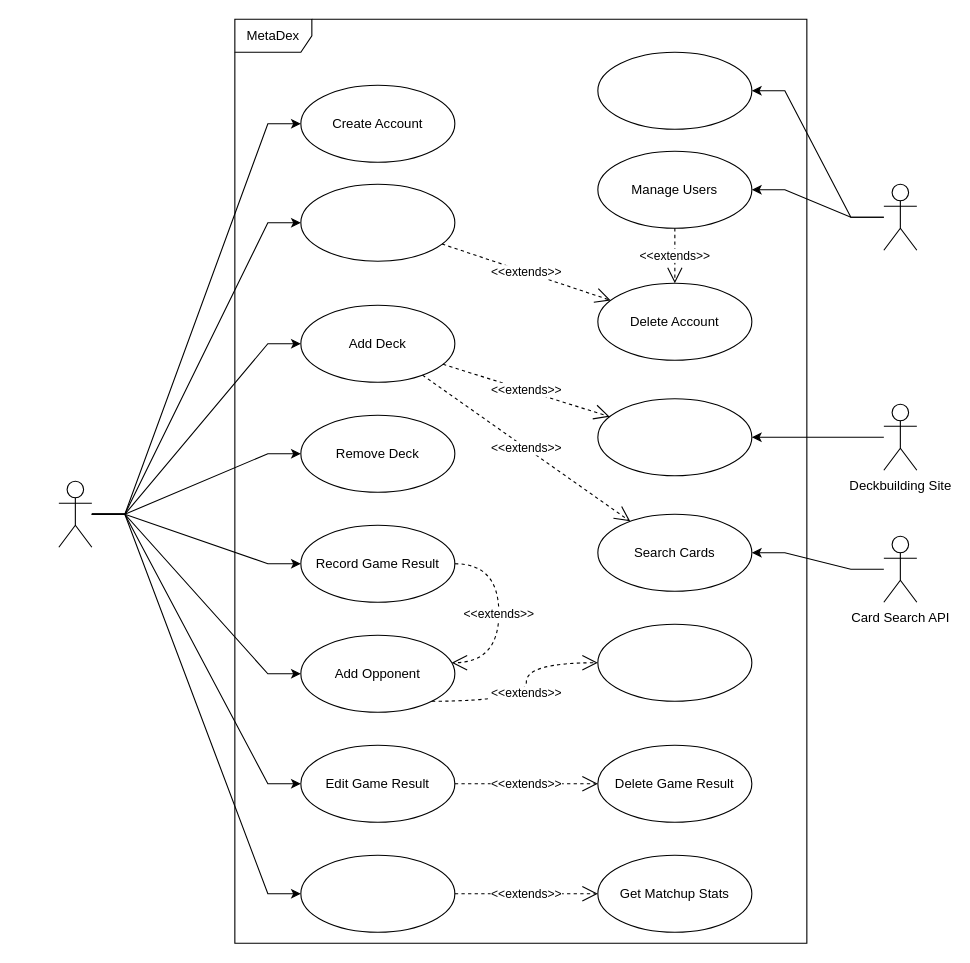
Image size: 970x963. Some labels were removed from this diagram. Each missing label, with the box of its shape:
Administrator: (883, 183, 917, 250)
Casual TCG Player: (58, 480, 92, 547)
Import Deck: (597, 398, 752, 476)
Manage Account: (300, 183, 455, 261)
Manage Metadata: (597, 51, 752, 129)
Review Game Result Visualizations: (300, 854, 455, 932)
Search Users: (597, 623, 752, 701)
